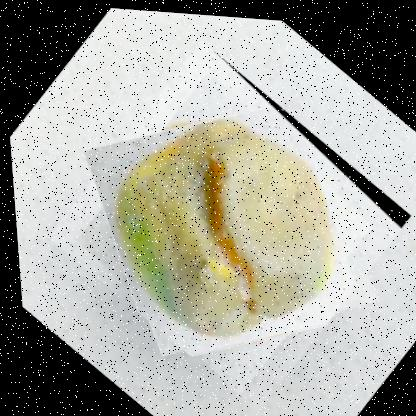orange_rotten: (29, 25, 415, 415)
